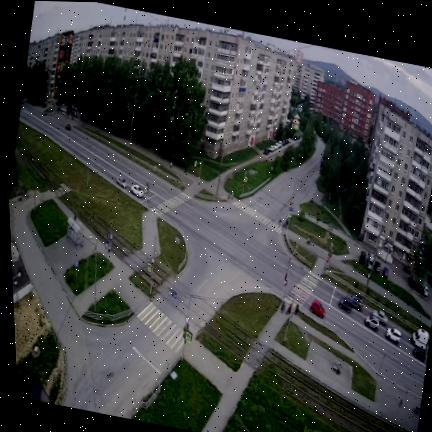bench: (333, 360, 342, 374), (414, 407, 420, 414)
busStop: (67, 218, 83, 246)
busStopSign: (108, 221, 113, 261), (75, 262, 79, 285)
car: (310, 300, 325, 318), (386, 328, 401, 346), (348, 295, 363, 311), (373, 310, 388, 325), (365, 315, 379, 331), (339, 297, 353, 312), (413, 347, 426, 361), (131, 185, 144, 197), (117, 177, 127, 188), (374, 261, 381, 273), (360, 251, 366, 264), (383, 267, 388, 277)
cyclist: (280, 303, 285, 312)
garbageBin: (399, 400, 402, 406)
human: (294, 303, 299, 314), (105, 242, 109, 253), (289, 303, 292, 314), (307, 236, 311, 244), (338, 364, 341, 374), (108, 244, 111, 253), (227, 193, 230, 199), (231, 191, 233, 199), (185, 165, 187, 172), (170, 162, 172, 167)
lightPole: (88, 235, 97, 310), (366, 247, 377, 293), (216, 142, 224, 195), (128, 106, 134, 153), (86, 140, 91, 188)
pedestianCross: (138, 303, 183, 352), (233, 201, 282, 234), (286, 272, 321, 311), (152, 193, 191, 216)
sign: (284, 312, 292, 342), (175, 238, 180, 247)
trafficLight: (282, 248, 296, 299), (144, 166, 157, 206), (182, 317, 192, 360), (326, 240, 334, 273), (148, 258, 154, 295), (194, 160, 202, 186), (287, 202, 293, 229), (242, 170, 247, 194)
truck: (412, 329, 429, 350), (368, 252, 374, 270)
